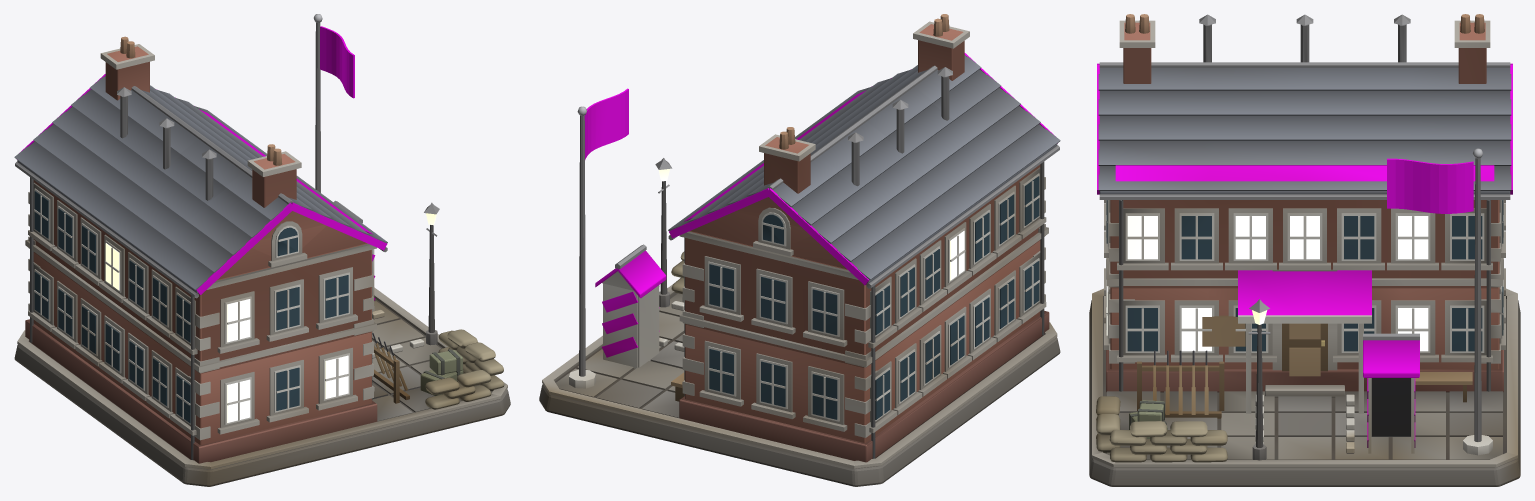
The model's file is barracks_industrial.glb.
3 renders of one model, left to right at view 1: azimuth 30°, elevation 25°; view 2: azimuth 150°, elevation 25°; view 3: azimuth 270°, elevation 25°, orthographic. The views are drawn at different scales.
Visible parts, largest first — view 1: Body; view 2: Body; view 3: Body.
Boxes of the visible parts, left/top/right/bottom form: Body: left=14, top=14, right=510, bottom=486; Body: left=539, top=14, right=1060, bottom=486; Body: left=1089, top=14, right=1520, bottom=486.
Size of the model in its own units: 3.99 by 3.54 by 3.99.
Materials: 1 (1 with a texture image).
